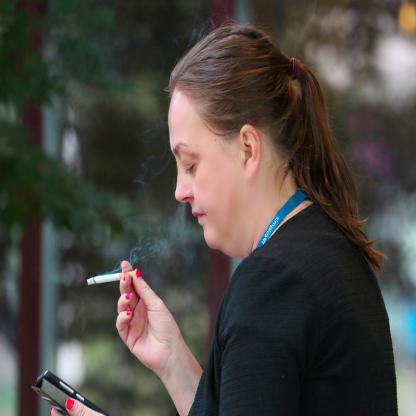smoking: (87, 271, 136, 286)
